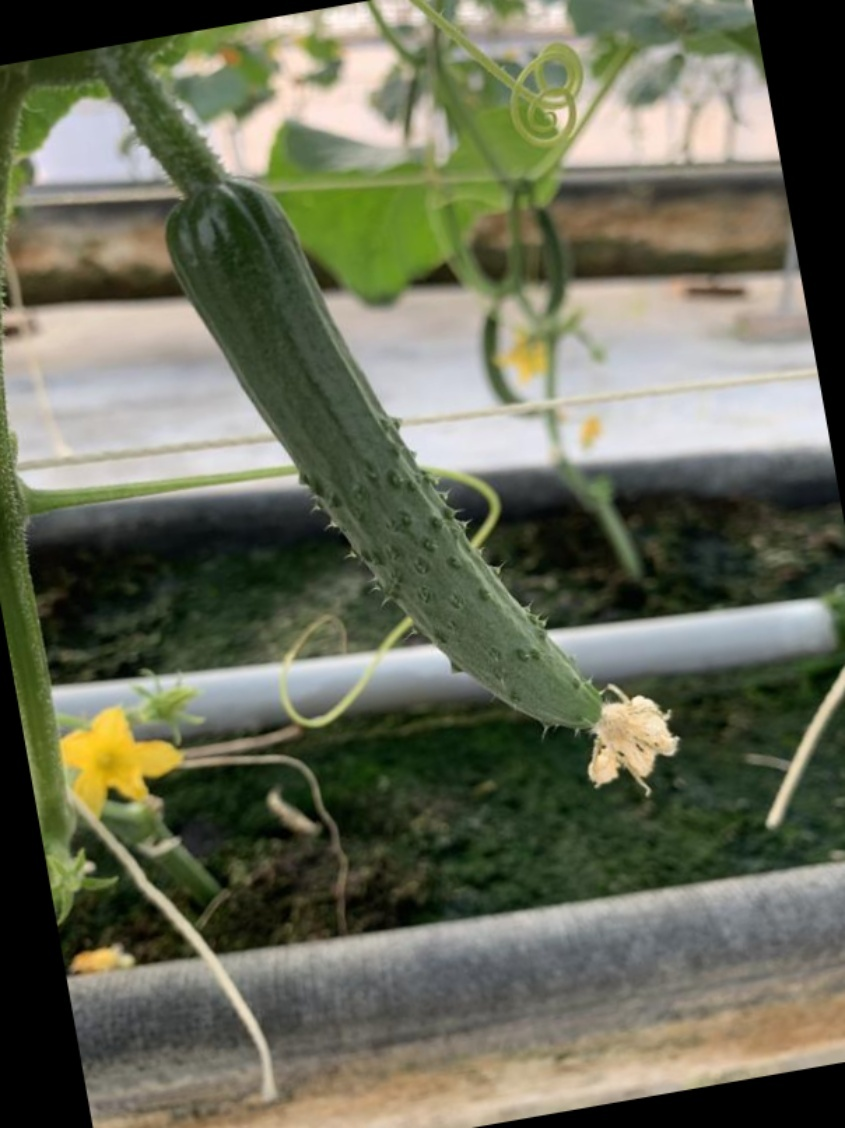growth: (144, 143, 623, 822)
